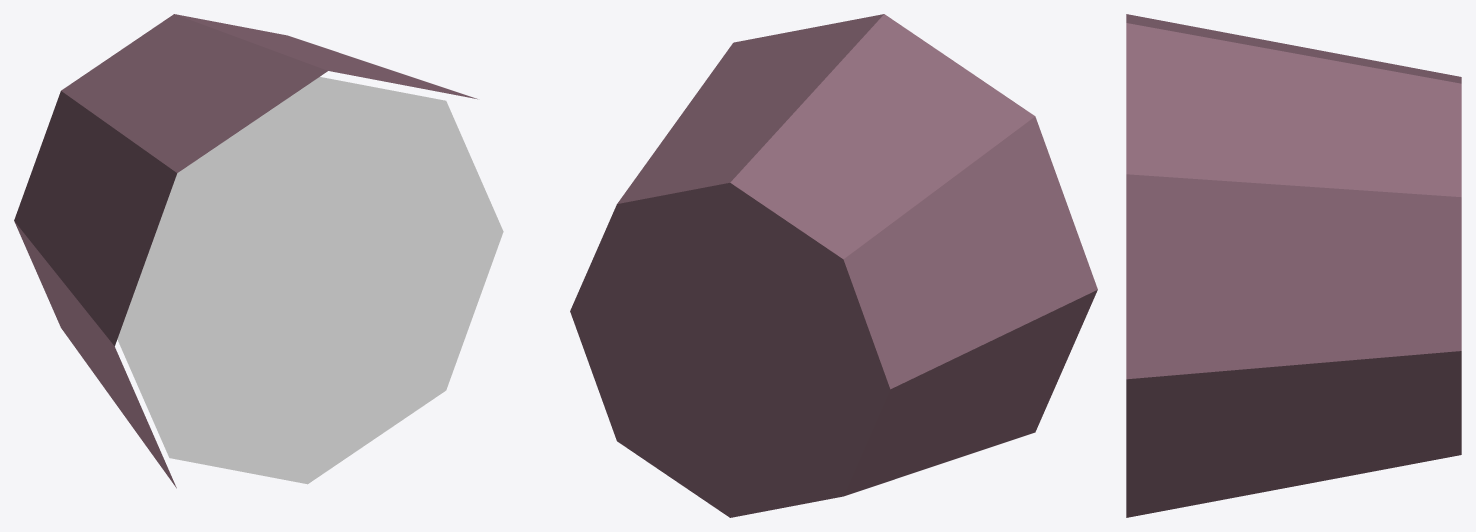
File: SM_NPC_Prop_Teacup.glb
The picture shows the model from 3 angles, left to right: view 1: azimuth 30°, elevation 25°; view 2: azimuth 150°, elevation 25°; view 3: azimuth 270°, elevation 25°; orthographic projection. The views are drawn at different scales.
Parts seen in each view (by area): view 1: asset_npc_prop_teacup; view 2: asset_npc_prop_teacup; view 3: asset_npc_prop_teacup.
Boxes of the visible parts, x1,y1,x2,y2 form: asset_npc_prop_teacup: (14, 14, 503, 488); asset_npc_prop_teacup: (570, 14, 1097, 517); asset_npc_prop_teacup: (1126, 14, 1461, 517).
Size of the model in its own units: 0.12 by 0.12 by 0.075.
1 material, 1 textured.
